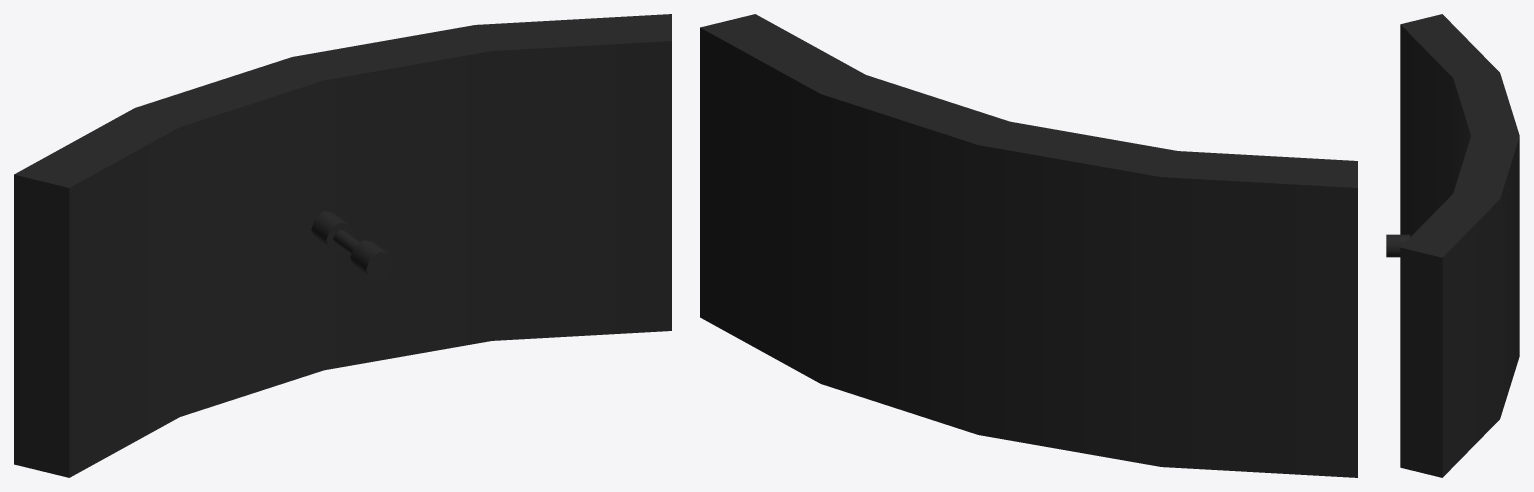
File: aquila_active_radiator_srf_1.obj
The picture shows the model from 3 angles, left to right: view 1: azimuth 30°, elevation 25°; view 2: azimuth 150°, elevation 25°; view 3: azimuth 270°, elevation 25°; orthographic projection. The views are drawn at different scales.
Parts seen in each view (by area): view 1: aquila_active_radiator_srf_1; view 2: aquila_active_radiator_srf_1; view 3: aquila_active_radiator_srf_1.
Boxes of the visible parts, <box> form: aquila_active_radiator_srf_1: <box>14,14,671,477</box>; aquila_active_radiator_srf_1: <box>700,14,1357,477</box>; aquila_active_radiator_srf_1: <box>1386,14,1519,477</box>.
Bounding box in the file's own units: 1.19 × 0.5 × 0.275.
